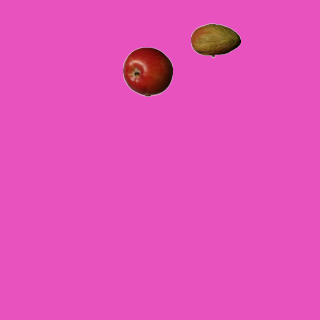Apple Braeburn: (122, 46, 172, 96)
Papaya: (190, 15, 240, 65)
